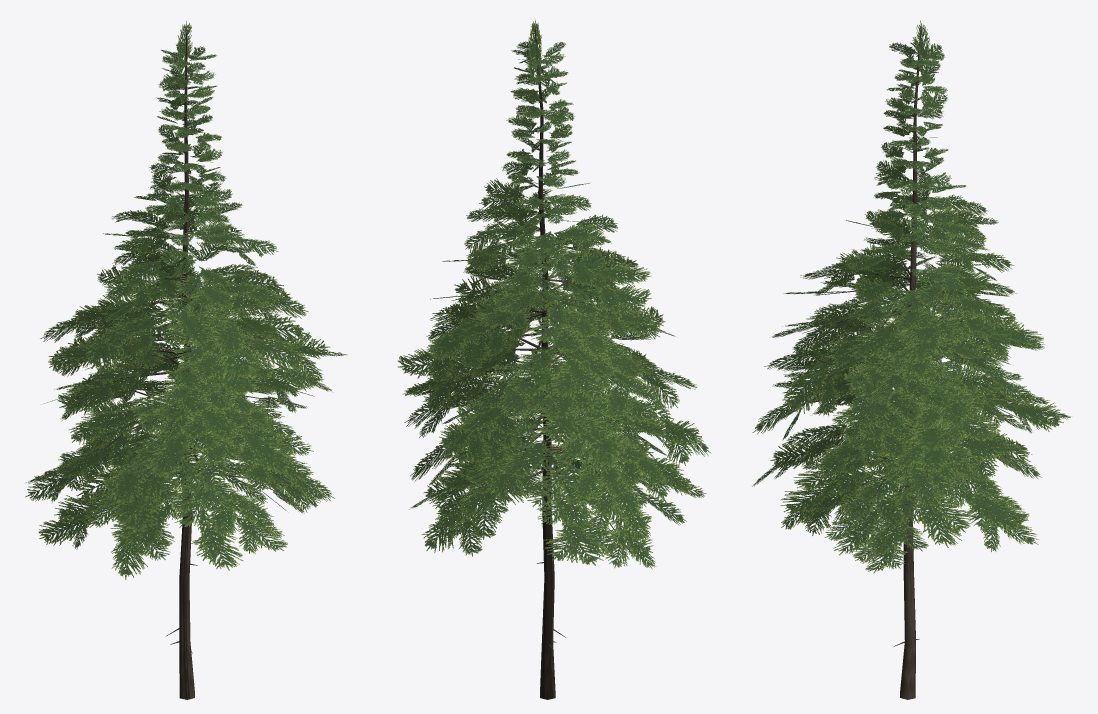
Rendered from near.glb.
3 views of the same model, side by side, from view 1: azimuth 30°, elevation 25°; view 2: azimuth 150°, elevation 25°; view 3: azimuth 270°, elevation 25° (orthographic).
Parts seen in each view (by area): view 1: spruce_02; view 2: spruce_02; view 3: spruce_02.
Part boxes in pixels (left/top/right/bottom): spruce_02: left=25, top=21, right=347, bottom=699; spruce_02: left=397, top=19, right=711, bottom=699; spruce_02: left=752, top=20, right=1070, bottom=699.
Size of the model in its own units: 8.58 by 19.63 by 8.95.
2 materials, 2 textured.
